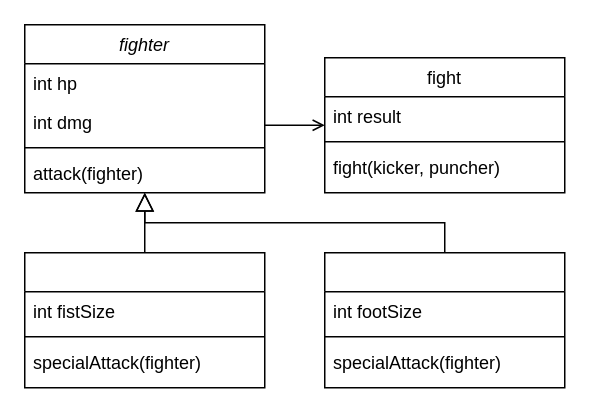
The diagram is 590 pixels wide and 413 high, and some of its shapes have lost their labels. The shapes that lost their labels are listed below. From the top down, each one's box as (x1, y1, x2, y2) in pixels, then its label:
(23, 251, 265, 388): kicker
(323, 251, 565, 388): puncher
